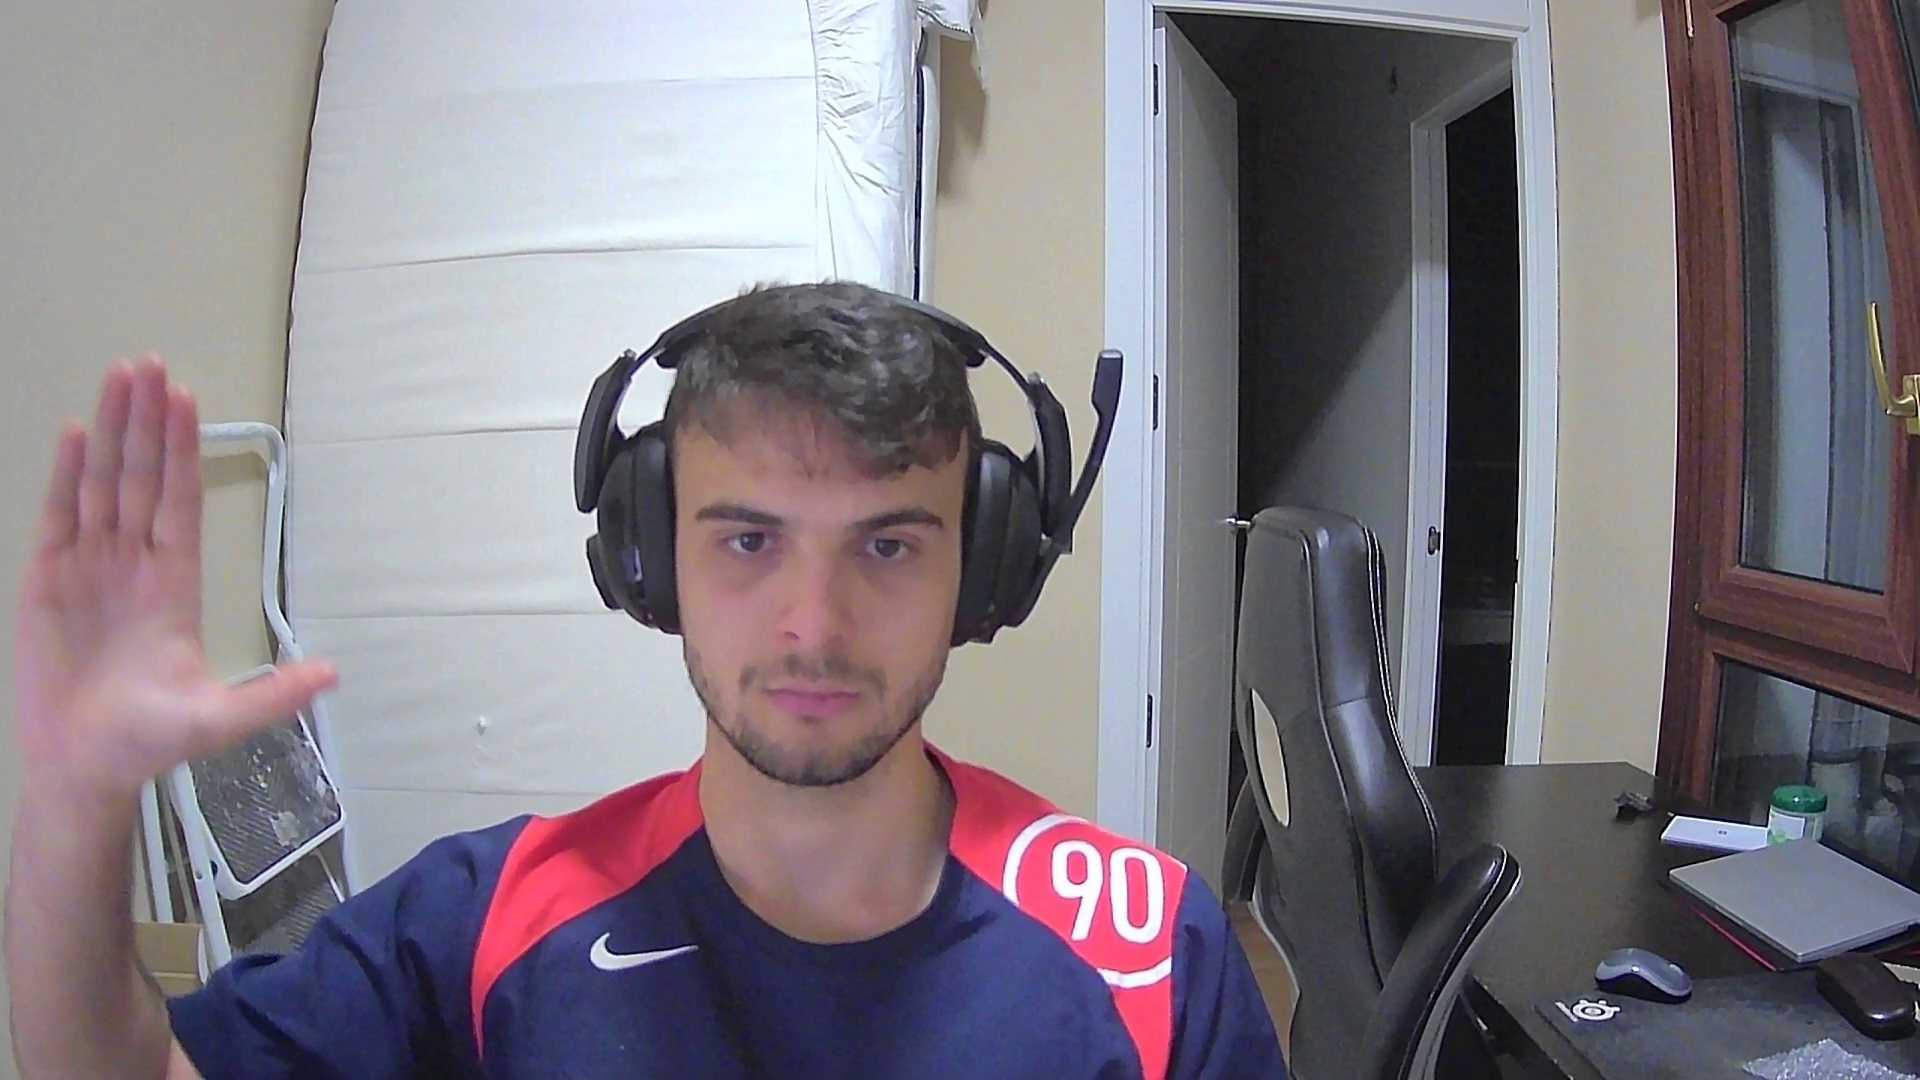Palm: (9, 348, 342, 760)
